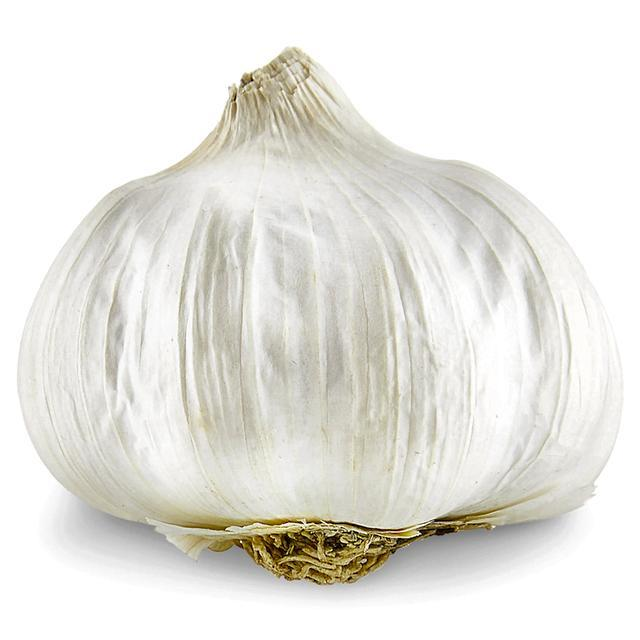garlic: (19, 49, 621, 583)
